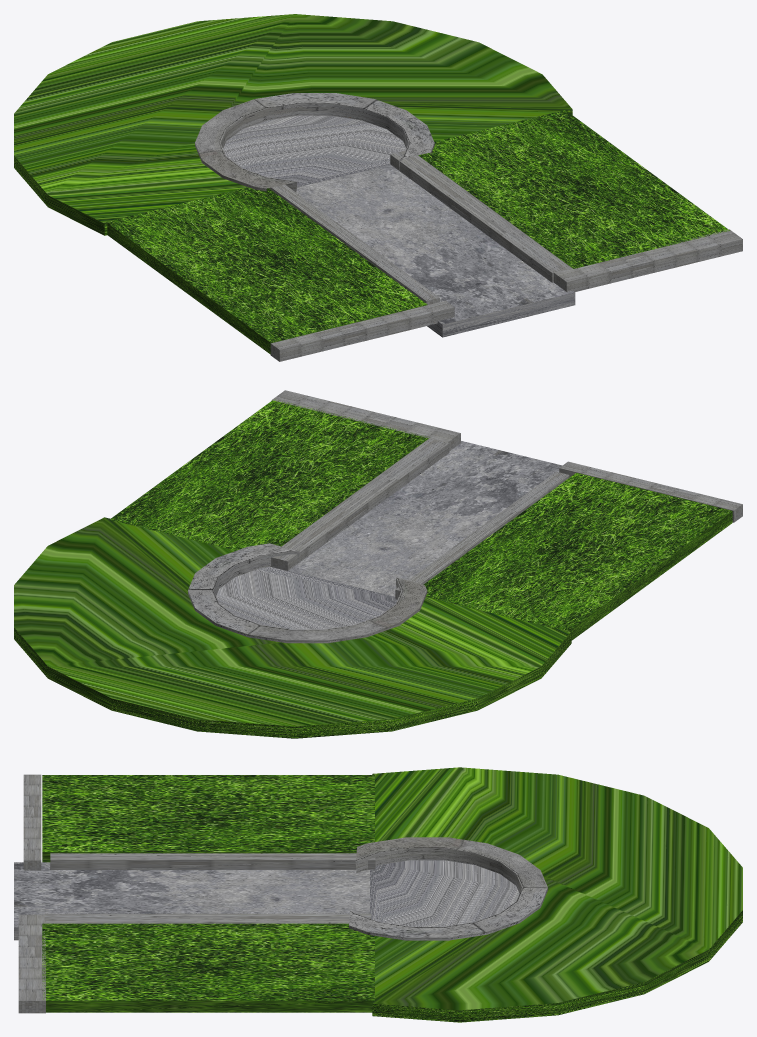
Rendered from vecindario.fbx.
3 renders of one model, top to bottom at view 1: azimuth 30°, elevation 25°; view 2: azimuth 150°, elevation 25°; view 3: azimuth 270°, elevation 25°, orthographic.
Visible parts, largest first — view 1: Cylinder003; view 2: Cylinder003; view 3: Cylinder003.
Boxes of the visible parts, x1,y1,x2,y2 form: Cylinder003: (14, 14, 742, 361); Cylinder003: (14, 390, 742, 738); Cylinder003: (14, 767, 742, 1022).
Bounding box in the file's own units: 55341 × 2737 × 70169.
4 materials, 4 textured.
